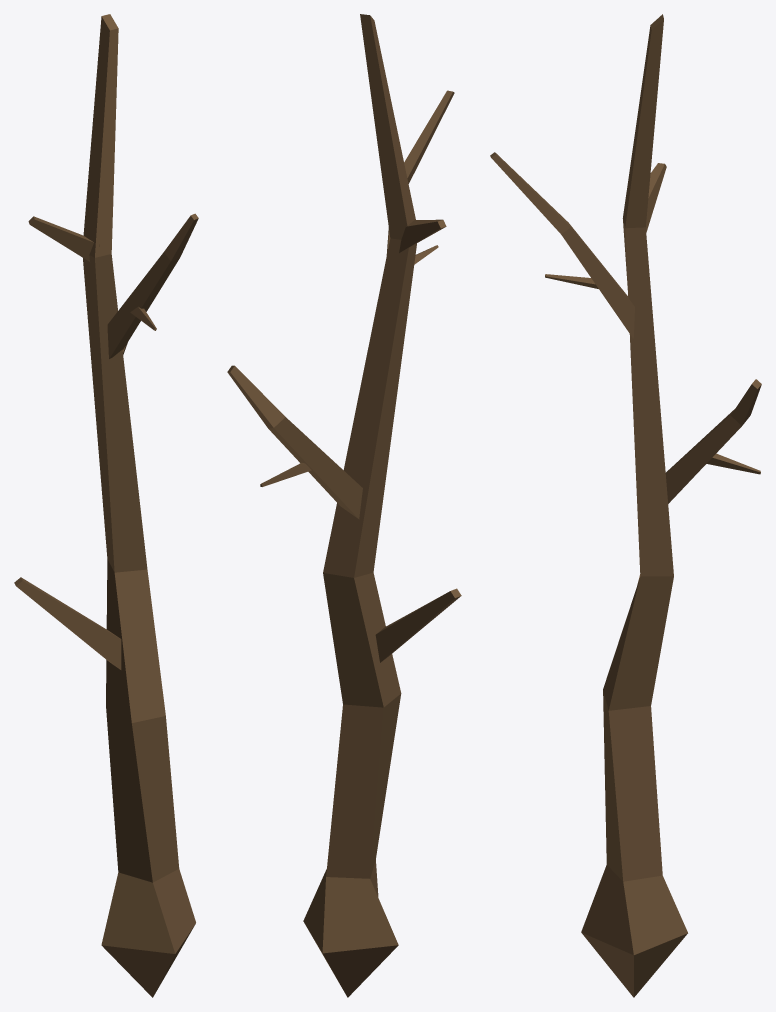
The model's file is DeadTree1.glb.
3 views of the same model, side by side, from view 1: azimuth 30°, elevation 25°; view 2: azimuth 150°, elevation 25°; view 3: azimuth 270°, elevation 25° (orthographic). The views are drawn at different scales.
Visible parts, largest first — view 1: Icosphere; view 2: Icosphere; view 3: Icosphere.
Boxes of the visible parts, x1,y1,x2,y2 form: Icosphere: (14,14,198,997); Icosphere: (227,14,461,997); Icosphere: (490,14,761,997).
Bounding box in the file's own units: 2.91 × 15.24 × 3.89.
Materials: 1 (1 with a texture image).
